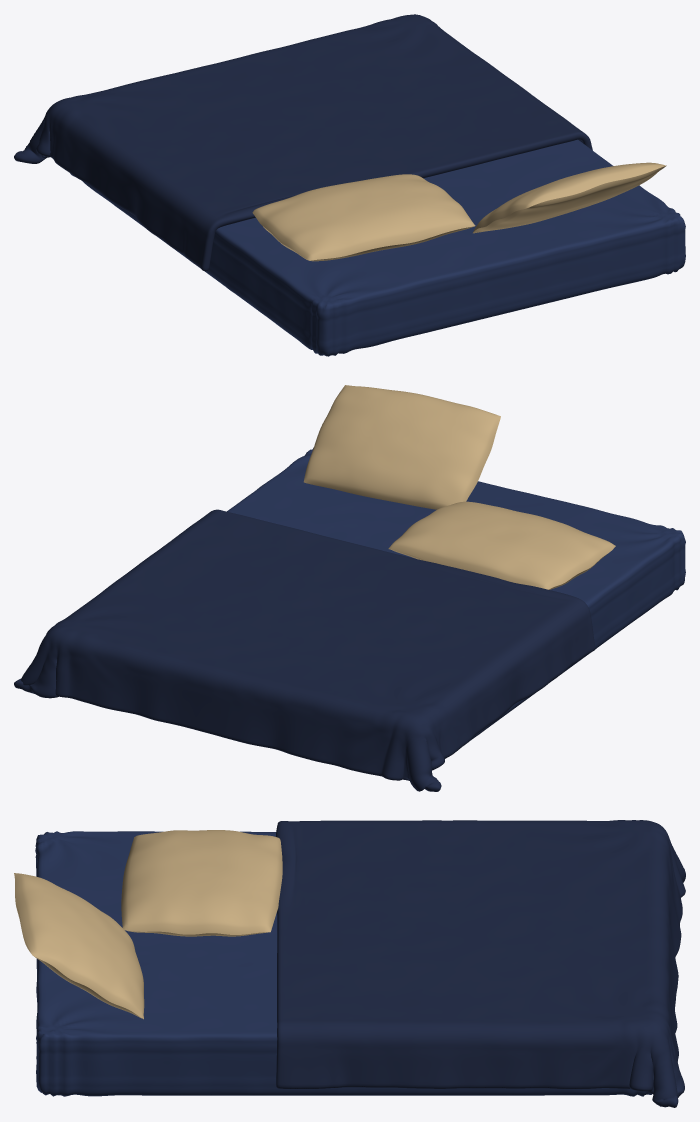
Rendered from bed.glb.
The picture shows the model from 3 angles, top to bottom: view 1: azimuth 30°, elevation 25°; view 2: azimuth 150°, elevation 25°; view 3: azimuth 270°, elevation 25°; orthographic projection. The views are drawn at different scales.
Visible parts, largest first — view 1: Kf1_Bed; view 2: Kf1_Bed; view 3: Kf1_Bed.
Boxes of the visible parts, bbox=[...] form: Kf1_Bed: bbox=[14, 14, 685, 356]; Kf1_Bed: bbox=[14, 385, 685, 791]; Kf1_Bed: bbox=[14, 820, 685, 1107].
Size of the model in its own units: 1.84 by 0.4982 by 2.18.
